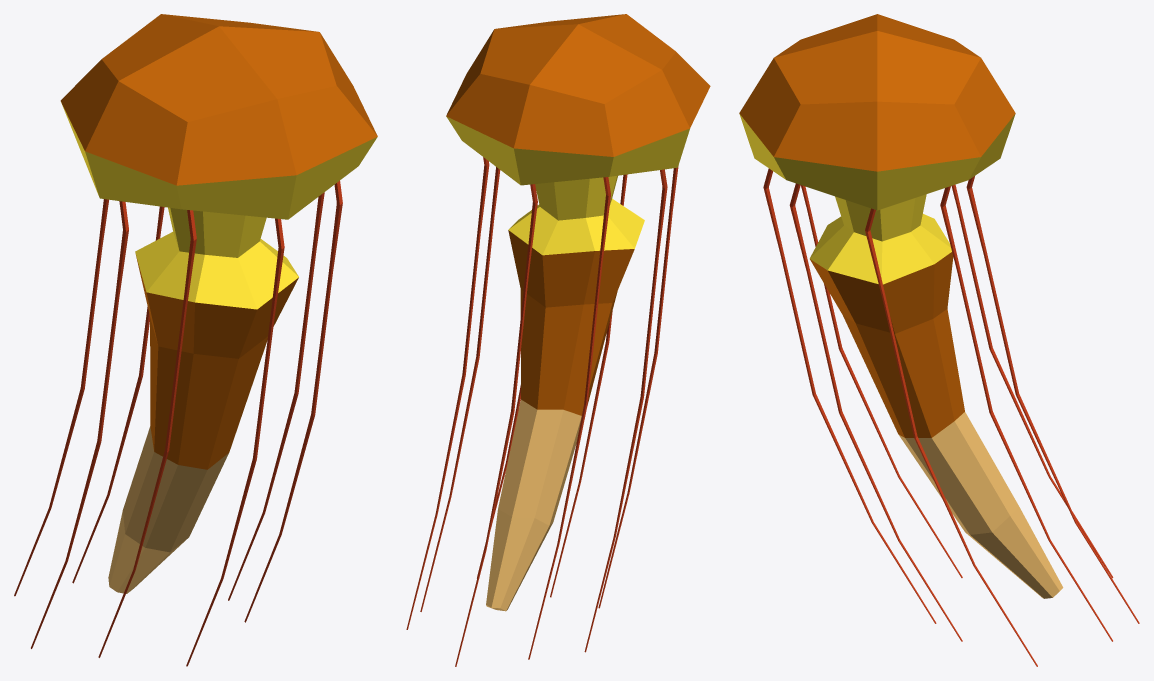
File: Jellyfish.gltf
3 renders of one model, left to right at view 1: azimuth 30°, elevation 25°; view 2: azimuth 150°, elevation 25°; view 3: azimuth 270°, elevation 25°, orthographic. The views are drawn at different scales.
Visible parts, largest first — view 1: Geo_Jellyfish; view 2: Geo_Jellyfish; view 3: Geo_Jellyfish.
Part boxes in pixels (box(x1,y1,x2,y2)): Geo_Jellyfish: box(14, 14, 377, 666); Geo_Jellyfish: box(406, 14, 710, 666); Geo_Jellyfish: box(739, 14, 1139, 666).
Bounding box in the file's own units: 57.48 × 136 × 83.27.
Materials: 1 (1 with a texture image).
